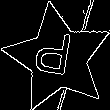P_S: (36, 30, 80, 86)
